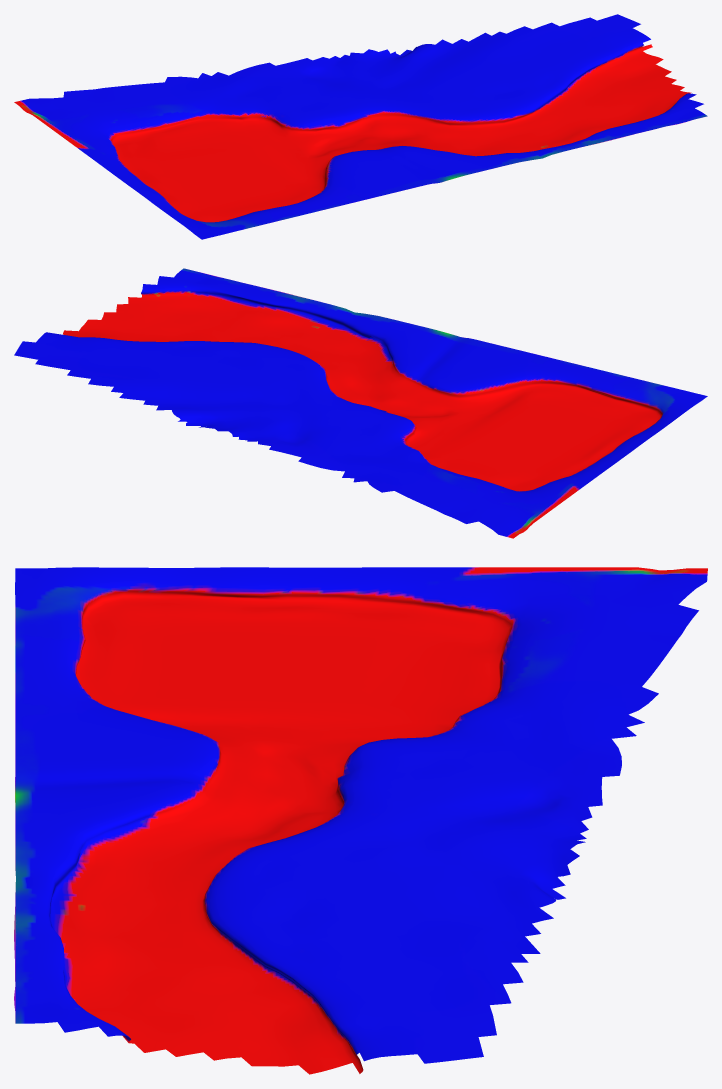
File: split1.fbx
3 views of the same model, one above another, from view 1: azimuth 30°, elevation 25°; view 2: azimuth 150°, elevation 25°; view 3: azimuth 270°, elevation 25° (orthographic). The views are drawn at different scales.
Visible parts, largest first — view 1: Retopo_Plane.001; view 2: Retopo_Plane.001; view 3: Retopo_Plane.001.
Boxes of the visible parts, x1=… form: Retopo_Plane.001: x1=14, y1=14, x2=707, y2=239; Retopo_Plane.001: x1=14, y1=268, x2=707, y2=538; Retopo_Plane.001: x1=14, y1=567, x2=707, y2=1074.
Bounding box in the file's own units: 554 × 11.82 × 328.
